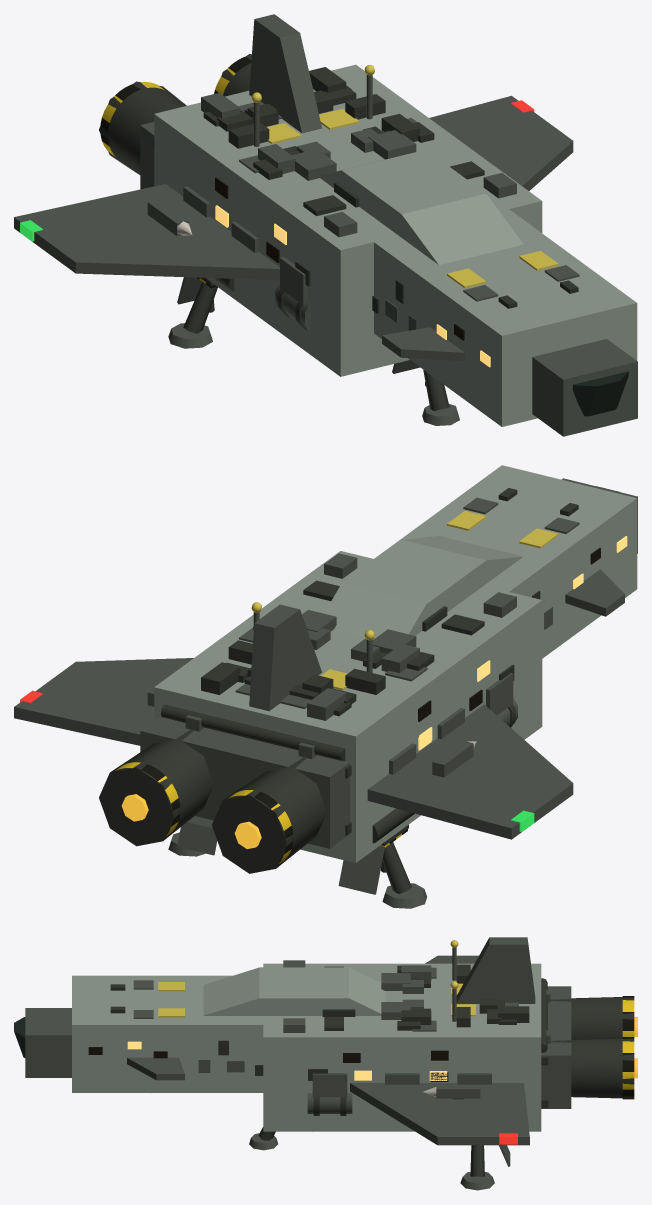
Rendered from trader-m(3).glb.
The picture shows the model from 3 angles, top to bottom: view 1: azimuth 30°, elevation 25°; view 2: azimuth 150°, elevation 25°; view 3: azimuth 270°, elevation 25°; orthographic projection. The views are drawn at different scales.
Parts seen in each view (by area): view 1: hullMain, hullNose, wingLeft, canopyFairing, wingRight, hullNoseTip, stabilizerFin, engineHousing (×2), canardLeft, cockpitGlass, gearStrut (×2), gearFoot (×2) (+14 smaller); view 2: hullMain, hullNose, engineHousing (×2), wingLeft, canopyFairing, wingRight, engineBayExtension, stabilizerFin, gearBayDoor (×2), propellantHeader, canardLeft, missileBody (+11 smaller); view 3: hullMain, hullNose, wingRight, canopyFairing, engineHousing (×2), stabilizerFin, hullNoseTip, engineBayExtension, canardRight, ventGreeble2R, traderShiphullMainPropellantTankR, missileBody (+11 smaller).
Boxes of the visible parts, left/top/right/bottom form: hullMain: left=154, top=64, right=542, bottom=376; hullNose: left=374, top=209, right=637, bottom=426; wingLeft: left=14, top=184, right=279, bottom=280; canopyFairing: left=320, top=149, right=523, bottom=264; wingRight: left=429, top=95, right=573, bottom=190; hullNoseTip: left=532, top=339, right=637, bottom=436; stabilizerFin: left=249, top=14, right=321, bottom=133; engineHousing (×2): left=99, top=54, right=251, bottom=174; canardLeft: left=382, top=327, right=464, bottom=361; cockpitGlass: left=572, top=371, right=628, bottom=416; gearStrut (×2): left=183, top=282, right=449, bottom=410; gearFoot (×2): left=168, top=323, right=459, bottom=425; hullMain: left=154, top=551, right=542, bottom=862; hullNose: left=362, top=465, right=637, bottom=658; engineHousing (×2): left=99, top=729, right=326, bottom=873; wingLeft: left=367, top=704, right=573, bottom=839; canopyFairing: left=324, top=536, right=523, bottom=638; wingRight: left=14, top=658, right=193, bottom=745; engineBayExtension: left=140, top=716, right=349, bottom=848; stabilizerFin: left=249, top=604, right=321, bottom=711; gearBayDoor (×2): left=177, top=822, right=384, bottom=894; propellantHeader: left=161, top=704, right=345, bottom=761; canardLeft: left=565, top=569, right=624, bottom=616; missileBody: left=432, top=740, right=473, bottom=777; hullMain: left=263, top=963, right=541, bottom=1131; hullNose: left=72, top=975, right=280, bottom=1092; wingRight: left=350, top=1083, right=529, bottom=1145; canopyFairing: left=203, top=967, right=385, bottom=1015; engineHousing (×2): left=550, top=997, right=634, bottom=1098; stabilizerFin: left=456, top=937, right=535, bottom=1003; hullNoseTip: left=25, top=1008, right=71, bottom=1077; engineBayExtension: left=541, top=986, right=571, bottom=1108; canardRight: left=127, top=1057, right=184, bottom=1080; ventGreeble2R: left=312, top=1073, right=347, bottom=1097; traderShiphullMainPropellantTankR: left=307, top=1093, right=352, bottom=1113; missileBody: left=436, top=1085, right=480, bottom=1098.
Size of the model in its own units: 3.73 by 1.93 by 5.38.
